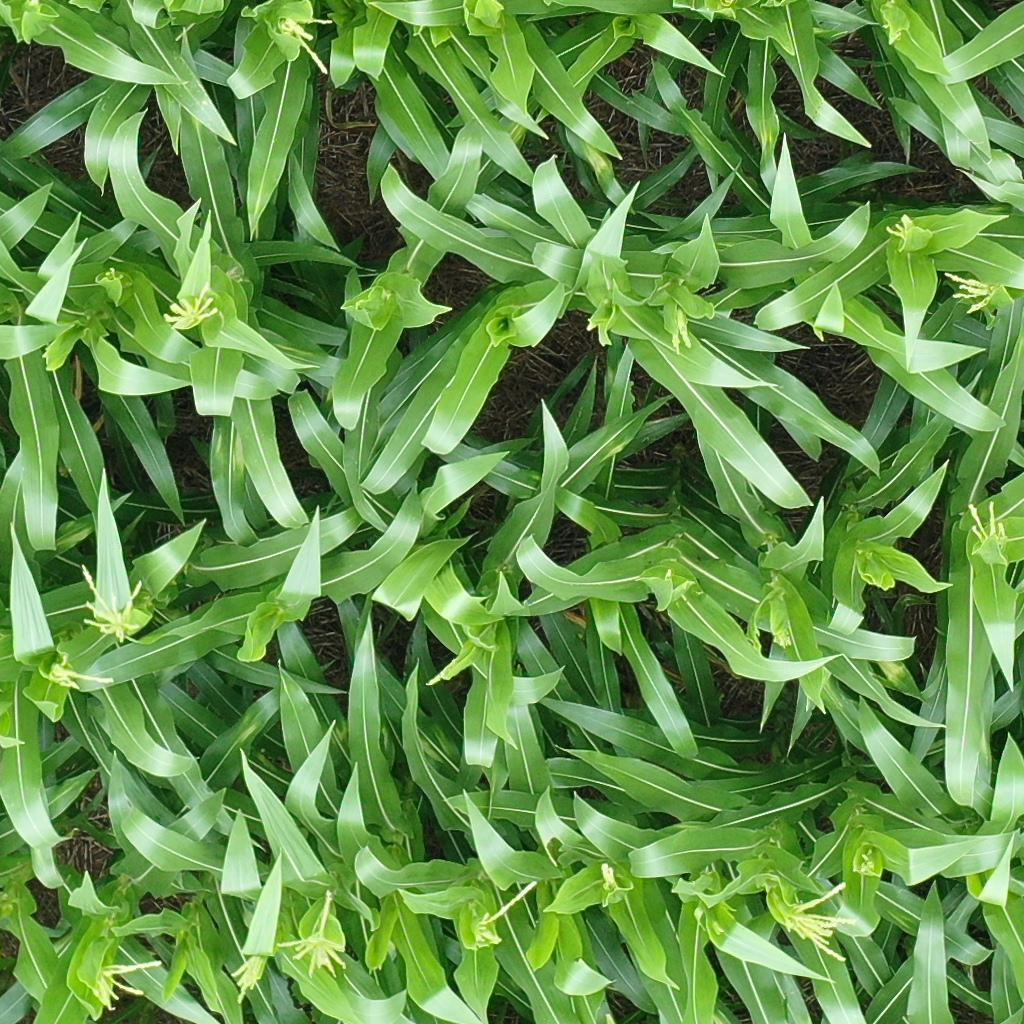Tassel: (775, 877, 851, 969), (276, 889, 351, 980), (75, 562, 149, 646), (466, 878, 541, 955), (275, 8, 337, 79), (87, 958, 165, 1011), (44, 652, 116, 693), (160, 283, 219, 330), (941, 267, 996, 316), (969, 496, 1006, 553), (228, 948, 266, 1003), (666, 302, 697, 355), (424, 655, 462, 688), (596, 861, 622, 898), (859, 842, 881, 881), (773, 622, 794, 655), (881, 219, 907, 242), (19, 1, 53, 17), (102, 264, 126, 285)
